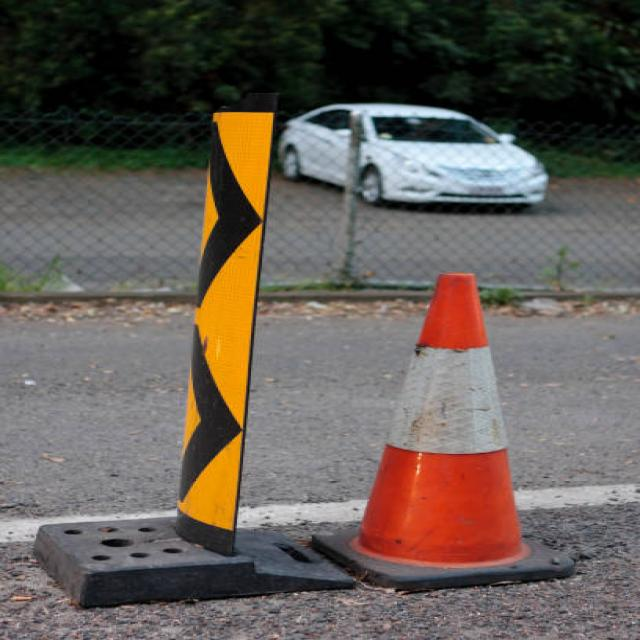Traffic Cone: (304, 228, 602, 591)
